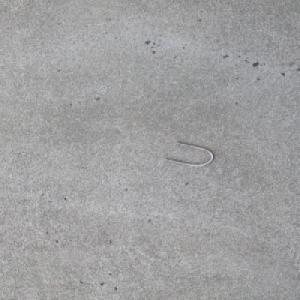ClampPart: (163, 141, 215, 166)
